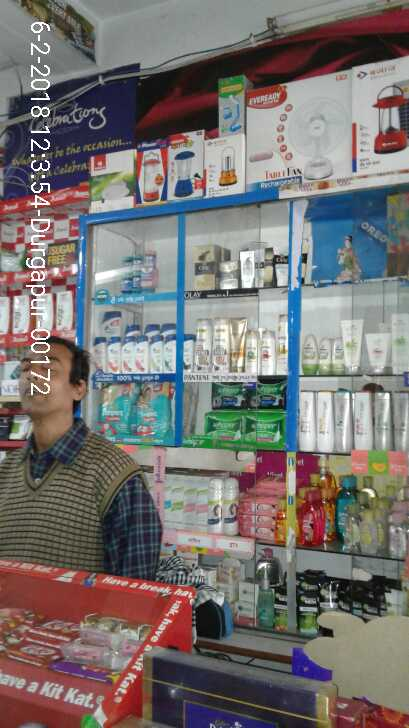vicks: (118, 250, 163, 297)
